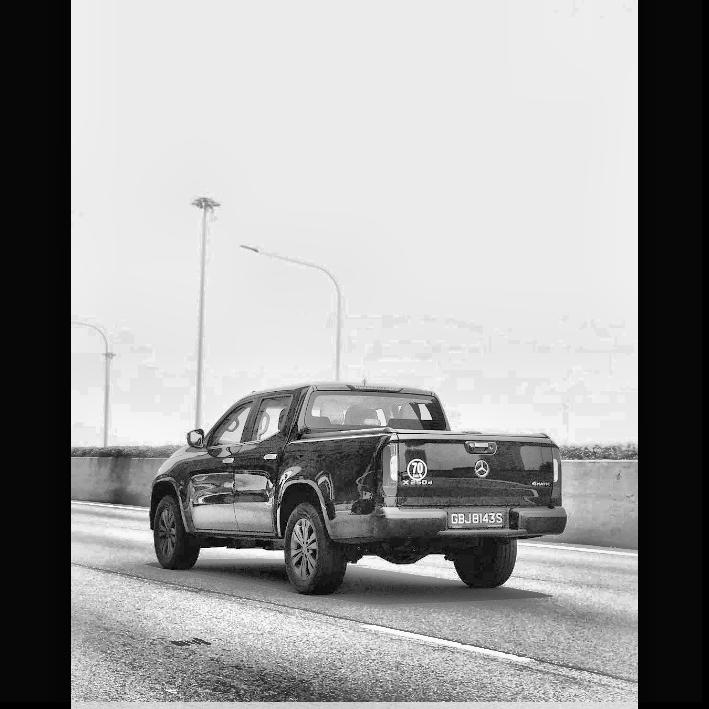License-Plates: (449, 512, 503, 526)
